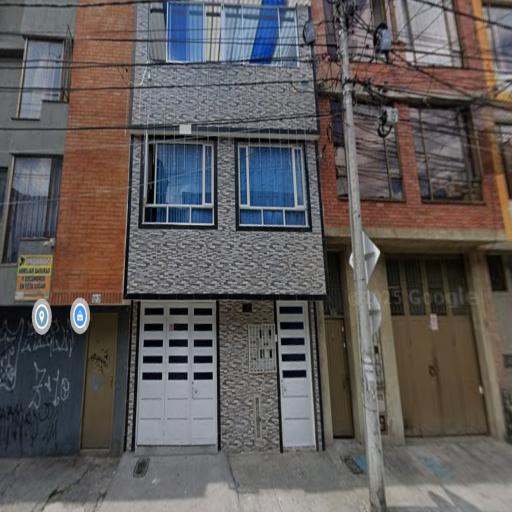Casa: (122, 0, 328, 464), (310, 0, 509, 449), (0, 0, 133, 464)
postes: (333, 0, 390, 511)
